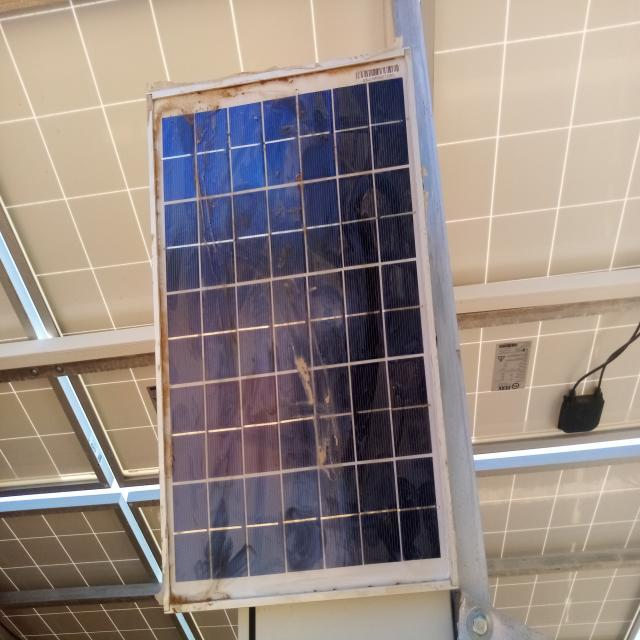faulty: (153, 55, 448, 608)
